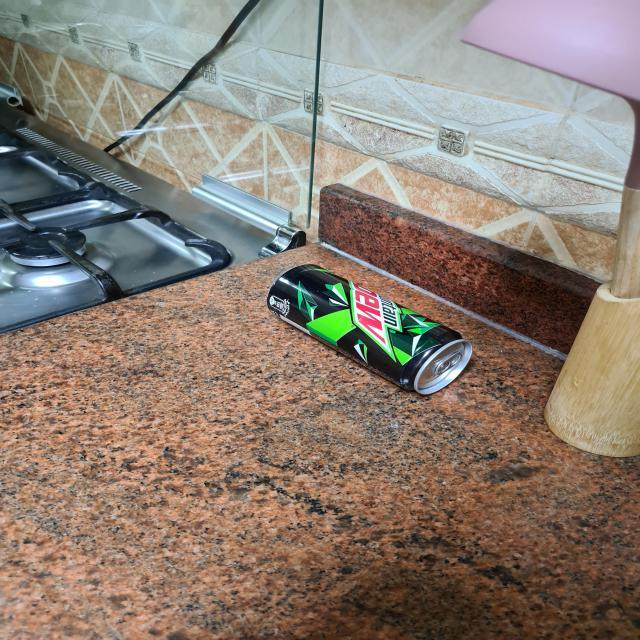can: (268, 260, 474, 400)
